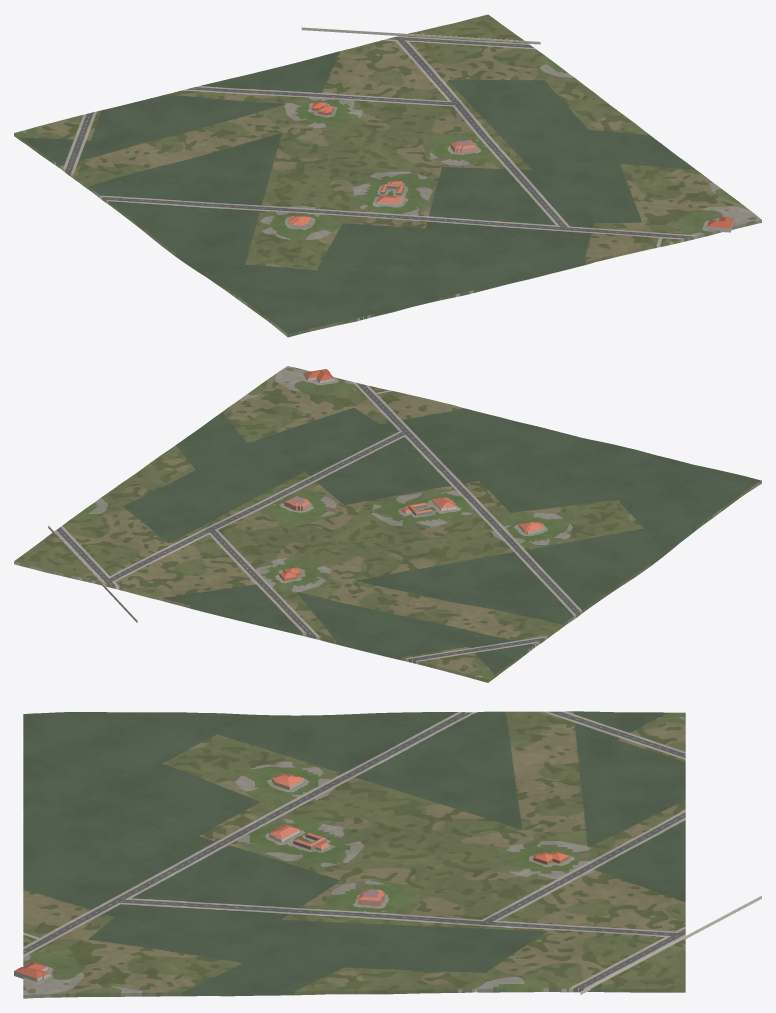
The picture shows the model from 3 angles, top to bottom: view 1: azimuth 30°, elevation 25°; view 2: azimuth 150°, elevation 25°; view 3: azimuth 270°, elevation 25°; orthographic projection. The views are drawn at different scales.
Visible parts, largest first — view 1: terrain, buildings; view 2: terrain, buildings; view 3: terrain, buildings.
Boxes of the visible parts, x1=… form: terrain: x1=14, y1=14, x2=761, y2=337; buildings: x1=288, y1=27, x2=734, y2=232; terrain: x1=14, y1=366, x2=761, y2=682; buildings: x1=48, y1=369, x2=544, y2=622; terrain: x1=23, y1=711, x2=685, y2=998; buildings: x1=14, y1=773, x2=761, y2=994.
Size of the model in its own units: 510 by 12.63 by 565.
2 materials, 1 textured.
